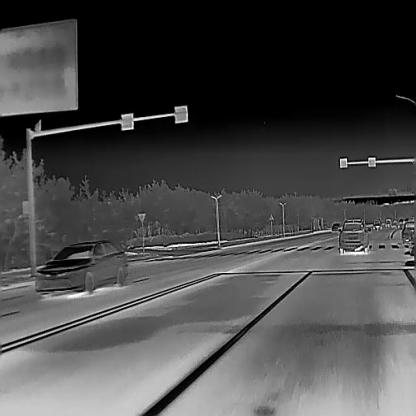car: (34, 239, 128, 294), (338, 217, 370, 253), (400, 221, 416, 242), (331, 222, 341, 231), (372, 218, 381, 228), (397, 218, 404, 228), (385, 218, 391, 226)
